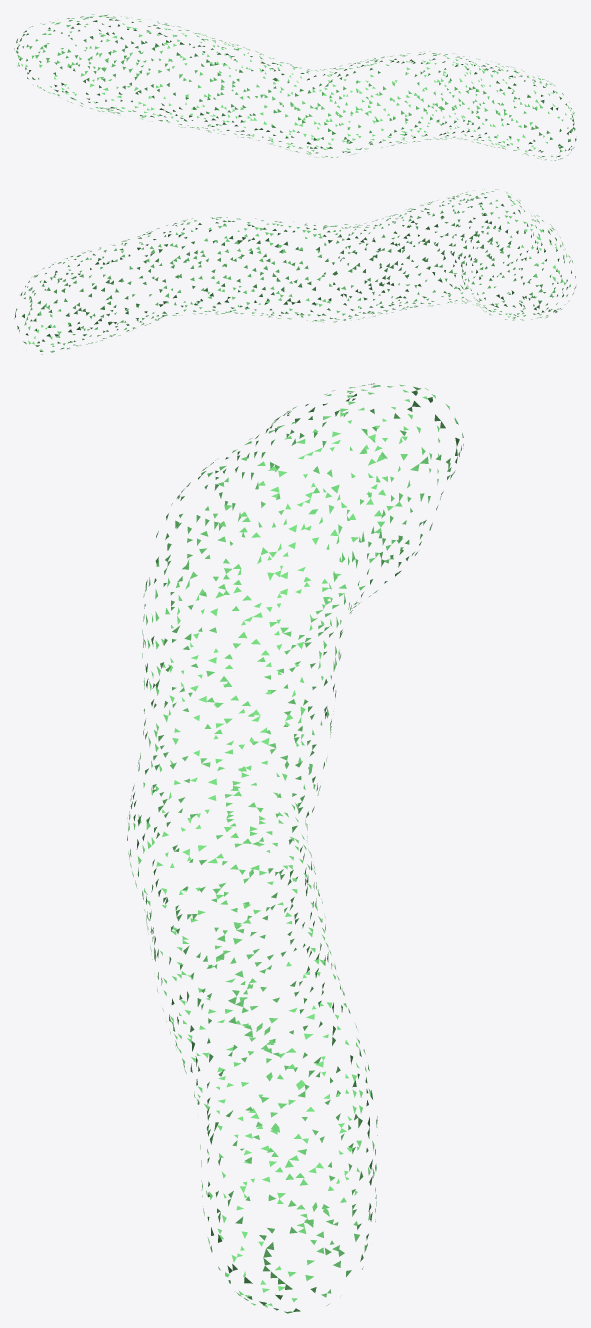
File: morph_018.glb
The picture shows the model from 3 angles, top to bottom: view 1: azimuth 30°, elevation 25°; view 2: azimuth 150°, elevation 25°; view 3: azimuth 270°, elevation 25°; orthographic projection. The views are drawn at different scales.
Size of the model in its own units: 101 by 43.75 by 28.15.
